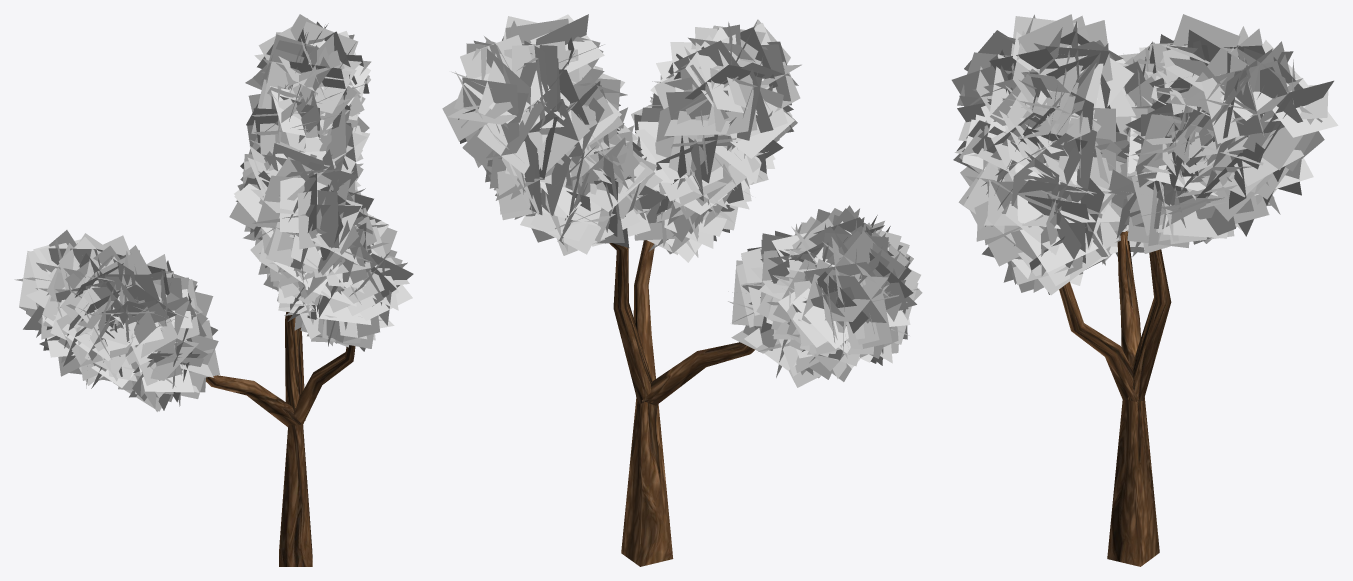
The model's file is TriTreeDesignLOD.fbx.
3 renders of one model, left to right at view 1: azimuth 30°, elevation 25°; view 2: azimuth 150°, elevation 25°; view 3: azimuth 270°, elevation 25°, orthographic. The views are drawn at different scales.
Visible parts, largest first — view 1: TriTreeLeaf_LOD0, TriTree; view 2: TriTreeLeaf_LOD0, TriTree; view 3: TriTreeLeaf_LOD0, TriTree.
Part boxes in pixels (left/top/right/bottom): TriTreeLeaf_LOD0: left=14, top=14, right=413, bottom=411; TriTree: left=206, top=312, right=355, bottom=566; TriTreeLeaf_LOD0: left=442, top=14, right=922, bottom=387; TriTree: left=609, top=240, right=754, bottom=566; TriTreeLeaf_LOD0: left=951, top=14, right=1338, bottom=295; TriTree: left=1059, top=230, right=1171, bottom=566.
Size of what is drawn, in the model's own units: 14.8 by 18.98 by 11.92.
